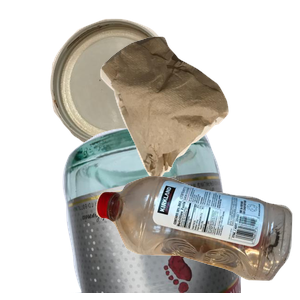glass: (60, 120, 300, 300)
metal: (47, 16, 214, 157)
plastic: (93, 173, 300, 300)
trash: (98, 34, 300, 211)
